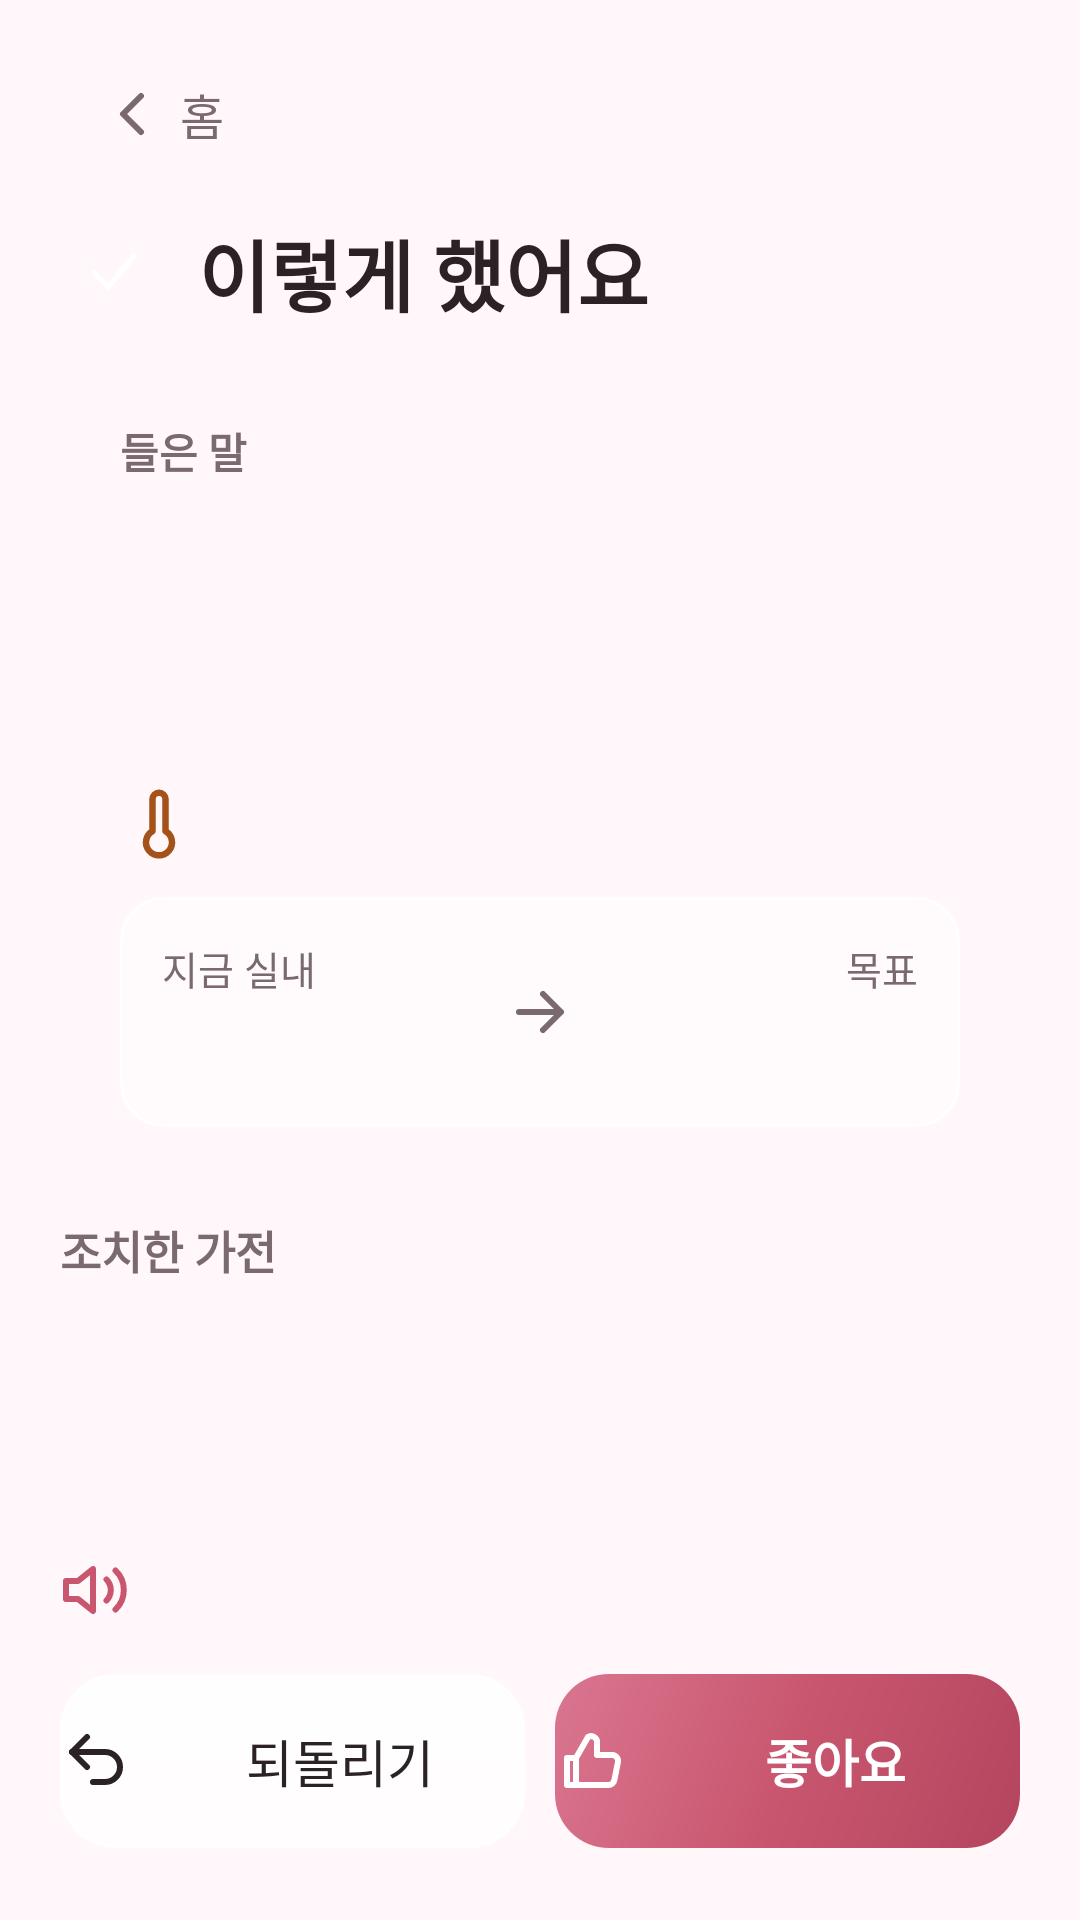

Named icons in this screenshot (1080px×1920px) and their bounding boxes, detection(x1, y1, x2, y2):
arrow right: detection(516, 991, 564, 1033)
speaker: detection(63, 1566, 127, 1614)
thermo: detection(142, 789, 176, 859)
